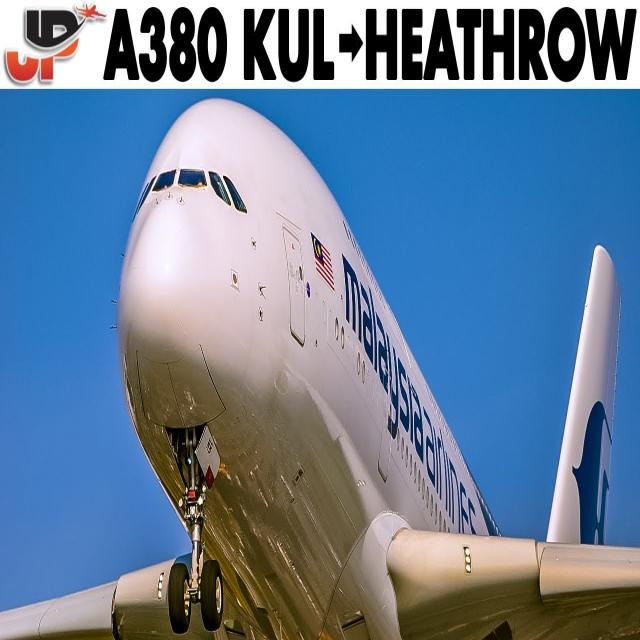A380: (18, 93, 640, 640)
